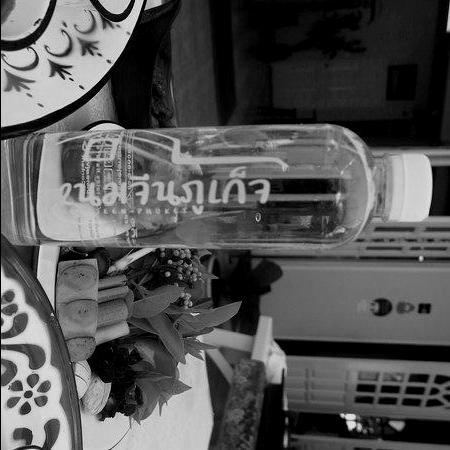bottle: (0, 116, 438, 256)
